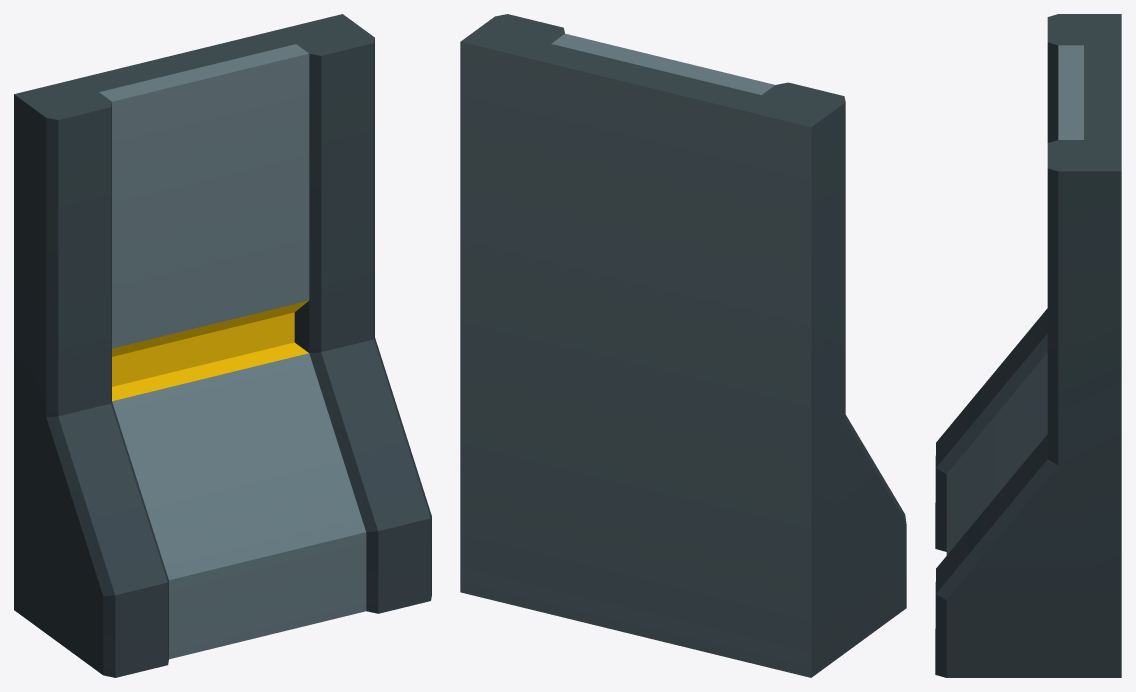
Rendered from Wall_type_C_029.fbx.
3 views of the same model, side by side, from view 1: azimuth 30°, elevation 25°; view 2: azimuth 150°, elevation 25°; view 3: azimuth 270°, elevation 25° (orthographic). The views are drawn at different scales.
Visible parts, largest first — view 1: Wall_type_C_029; view 2: Wall_type_C_029; view 3: Wall_type_C_029.
Part boxes in pixels (x1,y1,x2,y2): Wall_type_C_029: (14,14,431,677); Wall_type_C_029: (460,14,906,677); Wall_type_C_029: (935,14,1121,677).
Size of the model in its own units: 100 by 50 by 150.
